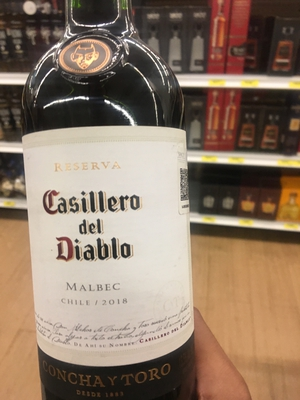casillero del diablo malbec: (15, 11, 217, 400)
